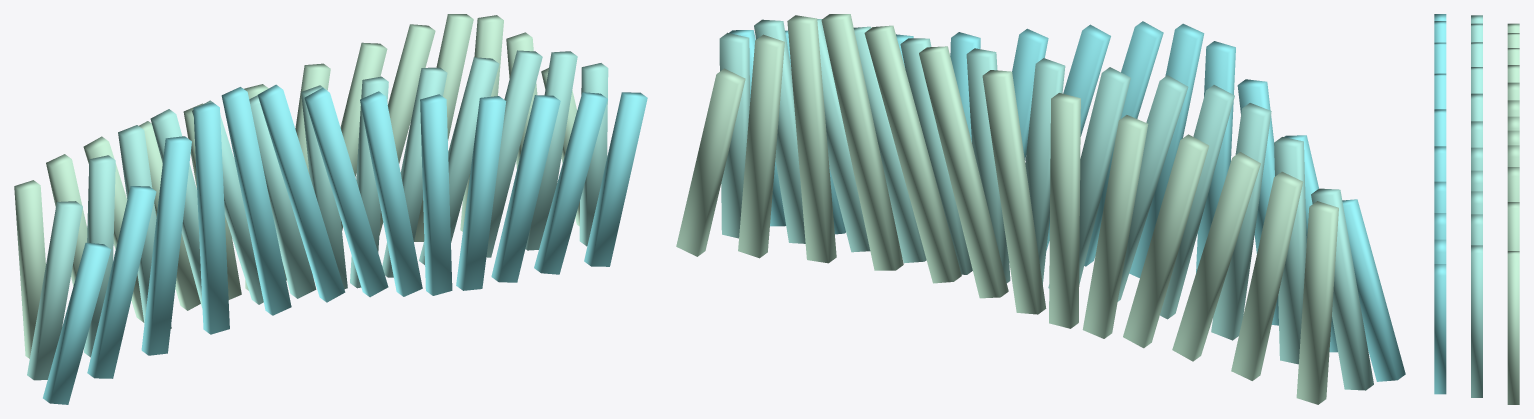
The model's file is aurora.glb.
The picture shows the model from 3 angles, left to right: view 1: azimuth 30°, elevation 25°; view 2: azimuth 150°, elevation 25°; view 3: azimuth 270°, elevation 25°; orthographic projection. The views are drawn at different scales.
Visible parts, largest first — view 1: A0_3, A0_4, A0_2, A0_5, A0_6, A0_7, A0_8, A0_1, A0_9, A0_10, A0_11, A0_12 (+26 smaller); view 2: A2_8, A2_9, A2_7, A2_10, A2_6, A2_5, A2_4, A2_11, A2_3, A2_2, A2_1, A2_0 (+24 smaller); view 3: A2_12, A1_12, A0_12, A2_11, A0_7, A0_6, A0_8, A2_10, A0_5, A0_9, A1_11, A0_10 (+20 smaller).
Boxes of the visible parts, x1=… form: A0_3: x1=193, y1=102, x2=229, y2=334; A0_4: x1=221, y1=87, x2=291, y2=315; A0_2: x1=141, y1=136, x2=191, y2=355; A0_5: x1=258, y1=84, x2=345, y2=302; A0_6: x1=304, y1=87, x2=388, y2=297; A0_7: x1=360, y1=91, x2=422, y2=296; A0_8: x1=420, y1=94, x2=452, y2=295; A0_1: x1=87, y1=186, x2=156, y2=378; A0_9: x1=456, y1=96, x2=506, y2=290; A0_10: x1=491, y1=95, x2=560, y2=282; A0_11: x1=534, y1=92, x2=607, y2=274; A0_12: x1=584, y1=92, x2=647, y2=266; A2_8: x1=864, y1=25, x2=961, y2=283; A2_9: x1=821, y1=14, x2=903, y2=270; A2_7: x1=919, y1=46, x2=1008, y2=298; A2_10: x1=787, y1=15, x2=836, y2=263; A2_6: x1=982, y1=70, x2=1046, y2=314; A2_5: x1=1049, y1=93, x2=1080, y2=328; A2_4: x1=1082, y1=115, x2=1148, y2=338; A2_11: x1=738, y1=34, x2=784, y2=258; A2_3: x1=1123, y1=134, x2=1208, y2=348; A2_2: x1=1172, y1=152, x2=1260, y2=361; A2_1: x1=1231, y1=171, x2=1303, y2=380; A2_0: x1=1296, y1=201, x2=1338, y2=404; A2_12: x1=1507, y1=251, x2=1519, y2=404; A1_12: x1=1471, y1=245, x2=1482, y2=397; A0_12: x1=1434, y1=264, x2=1446, y2=394; A2_11: x1=1507, y1=202, x2=1519, y2=250; A0_7: x1=1434, y1=109, x2=1446, y2=146; A0_6: x1=1434, y1=73, x2=1446, y2=109; A0_8: x1=1434, y1=146, x2=1446, y2=181; A2_10: x1=1507, y1=167, x2=1519, y2=201; A0_5: x1=1434, y1=42, x2=1446, y2=73; A0_9: x1=1434, y1=181, x2=1446, y2=212; A1_11: x1=1471, y1=214, x2=1482, y2=245; A0_10: x1=1434, y1=213, x2=1446, y2=239.
Size of the model in its own units: 0.8653 by 0.3724 by 0.128.
